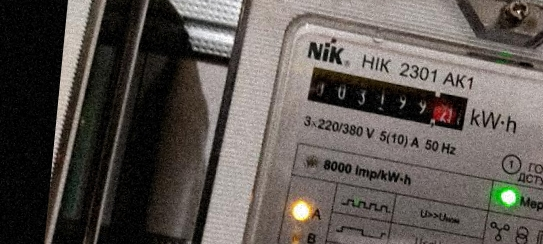0: (312, 77, 327, 97), (335, 80, 348, 100)
1: (377, 85, 387, 105)
3: (355, 86, 366, 106)
6: (437, 108, 448, 125)
9: (396, 91, 407, 110), (416, 97, 427, 116)
screen: (298, 61, 477, 139)
